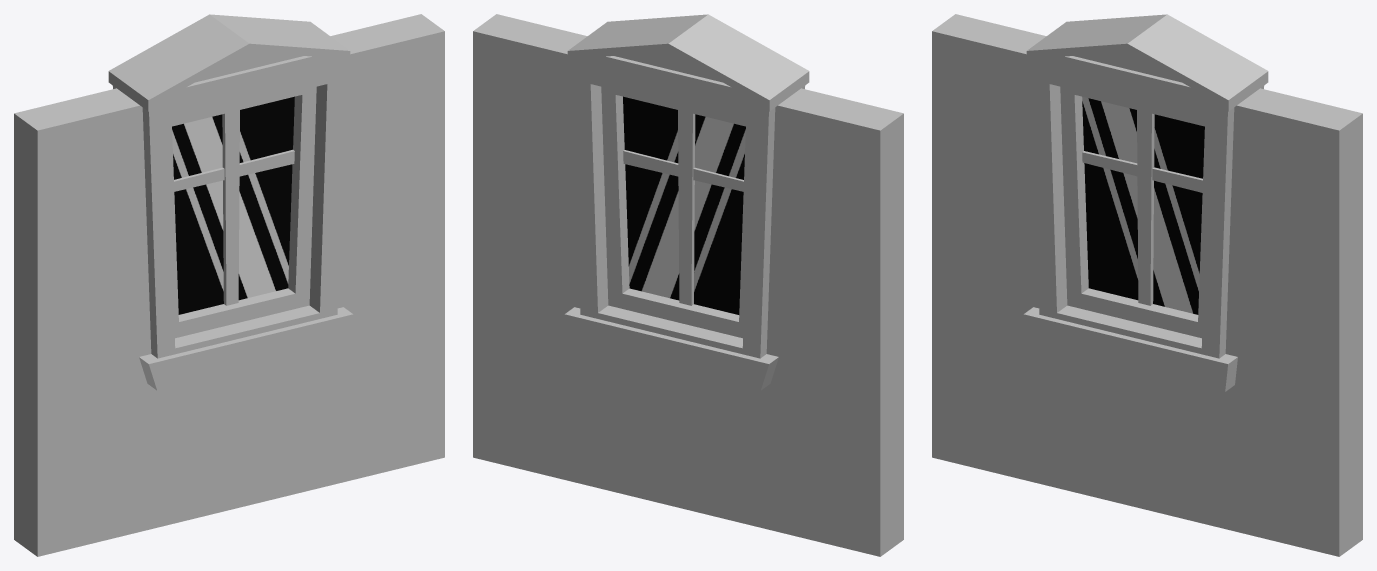
The model's file is window07.fbx.
The picture shows the model from 3 angles, left to right: view 1: azimuth 30°, elevation 25°; view 2: azimuth 150°, elevation 25°; view 3: azimuth 330°, elevation 25°; orthographic projection.
Parts seen in each view (by area): view 1: window07; view 2: window07; view 3: window07.
Part boxes in pixels (x1=…): window07: x1=14, y1=14, x2=444, y2=556; window07: x1=473, y1=14, x2=903, y2=556; window07: x1=932, y1=14, x2=1362, y2=556.
Size of the model in its own units: 400 by 441 by 73.43.
